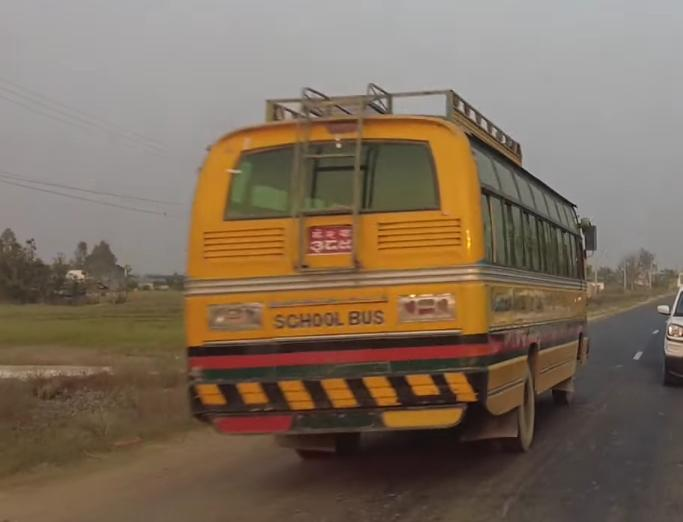school_bus: (181, 83, 602, 479)
